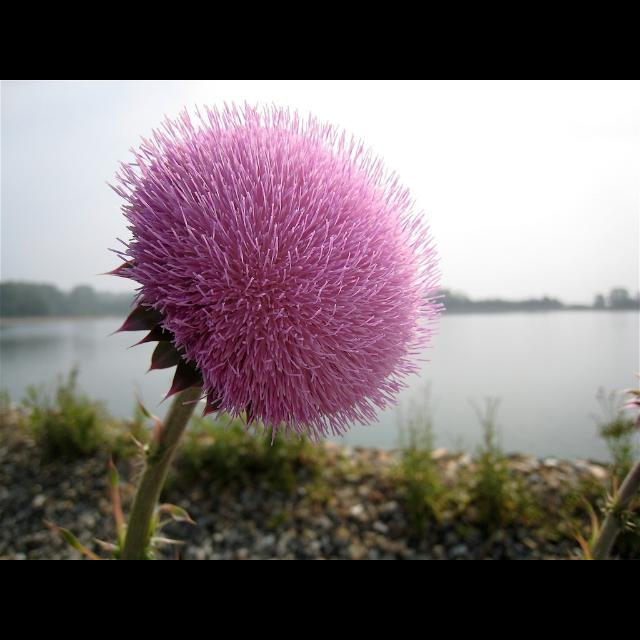Flower: (107, 107, 435, 461)
